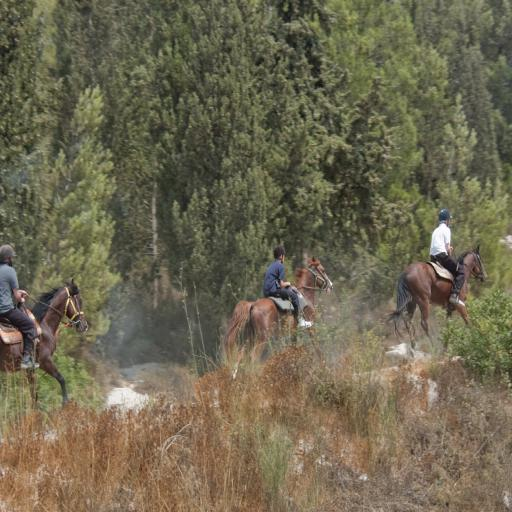Horse: (223, 254, 334, 369), (0, 278, 90, 414), (384, 243, 490, 350)
